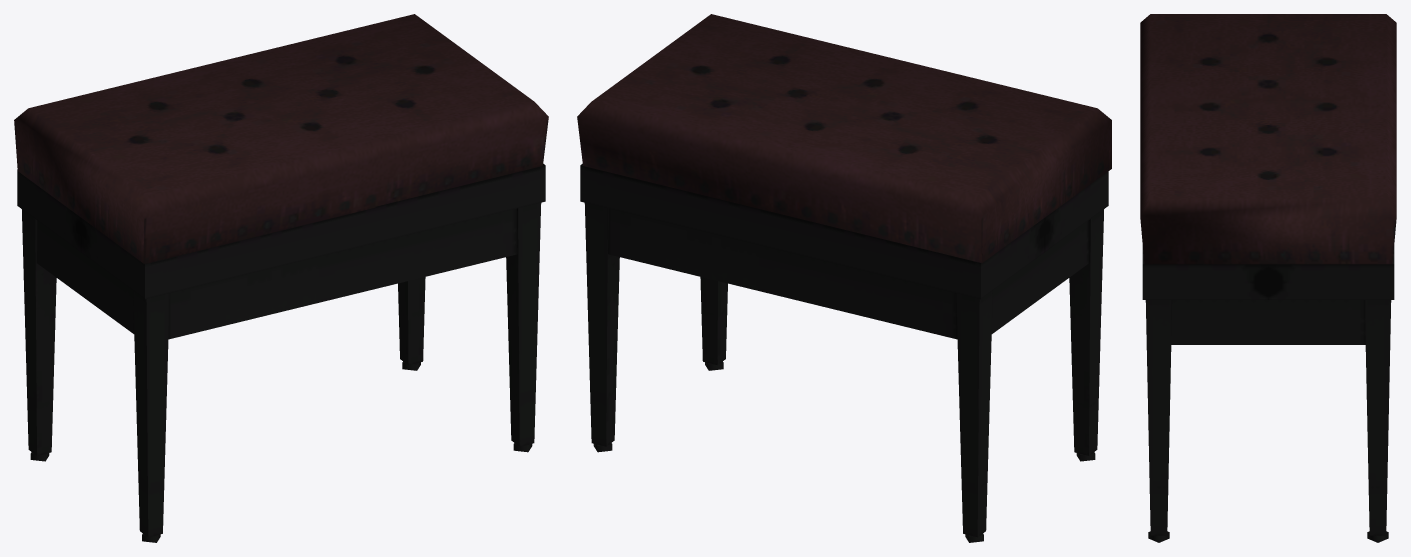
Rendered from dub_grand_piano_bench_lod2.glb.
The picture shows the model from 3 angles, left to right: view 1: azimuth 30°, elevation 25°; view 2: azimuth 150°, elevation 25°; view 3: azimuth 270°, elevation 25°; orthographic projection.
Parts seen in each view (by area): view 1: surf1, surf0; view 2: surf1, surf0; view 3: surf1, surf0.
Part boxes in pixels (bbox=[...]): surf1: bbox=[14, 14, 548, 264]; surf0: bbox=[17, 164, 545, 542]; surf1: bbox=[577, 14, 1111, 263]; surf0: bbox=[580, 164, 1108, 542]; surf1: bbox=[1140, 14, 1396, 264]; surf0: bbox=[1142, 246, 1394, 542].
Size of the model in its own units: 22.14 by 18.2 by 12.35.
